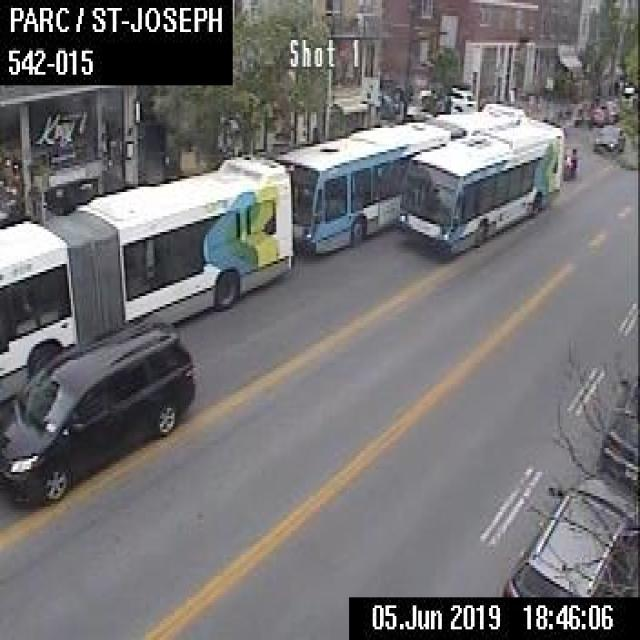bus: (0, 152, 293, 392), (272, 101, 523, 254), (397, 118, 563, 258)
vehicle: (0, 317, 193, 504), (502, 477, 638, 595), (600, 371, 638, 485), (418, 81, 473, 111), (378, 76, 402, 117), (594, 124, 624, 153), (562, 144, 576, 179), (594, 469, 596, 472)
